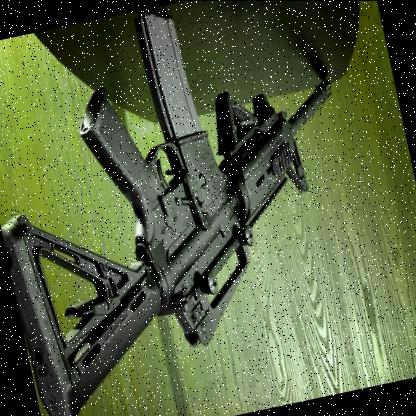rifle: (0, 2, 399, 416)
